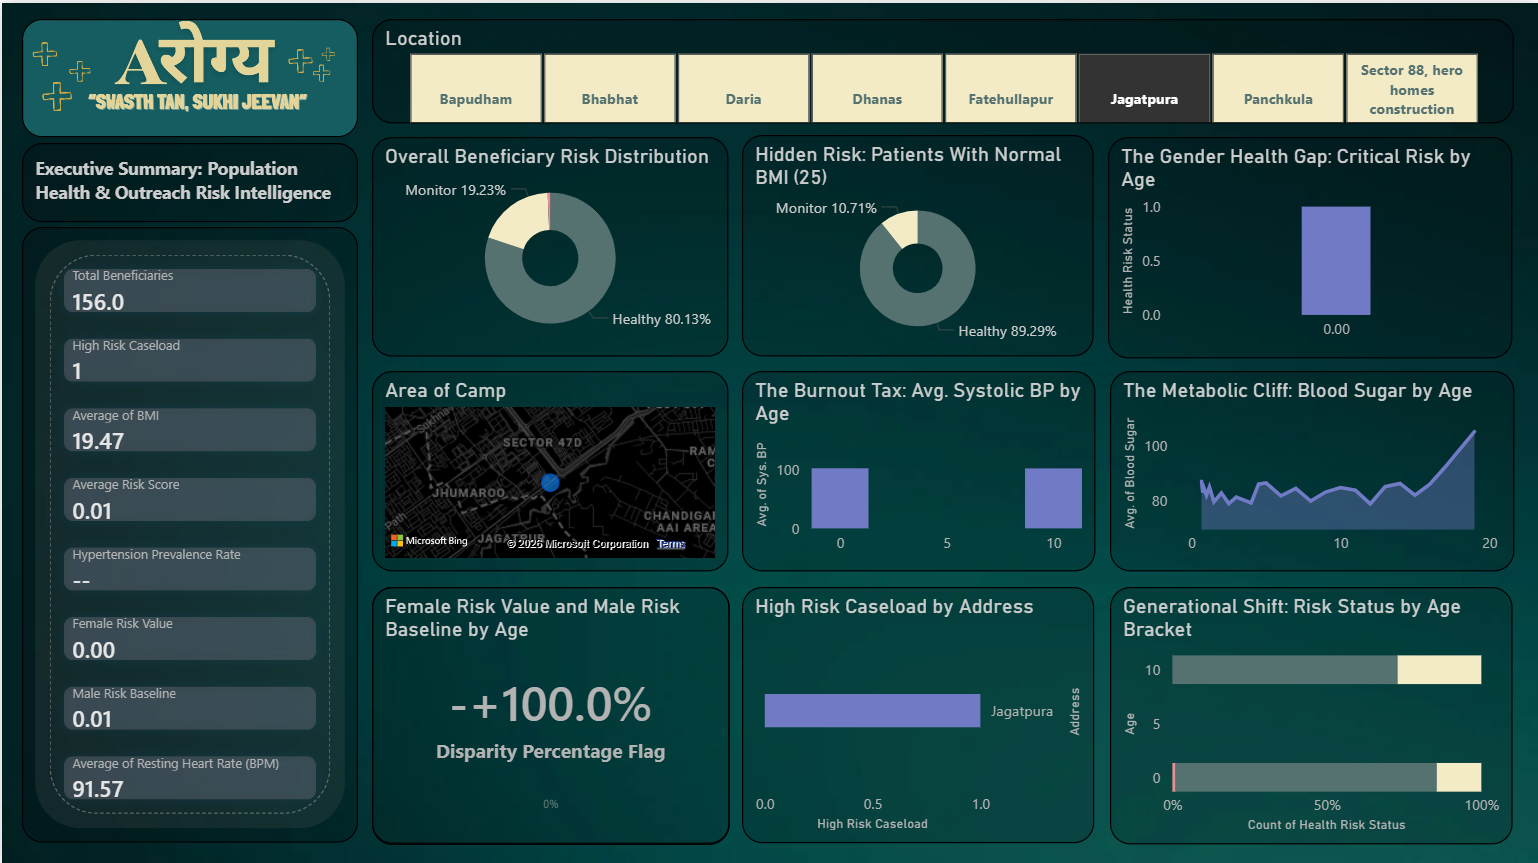

The page's visual inventory and layout, read from the dashboard file:
{"tool":"powerbi","page":{"name":"Page 1","canvas":[1280,720],"ordinal":0},"visuals":[{"type":"donutChart","title":"Overall Beneficiary Risk Distribution","fields":{"Category":["Sheet1.Health Risk Status"],"Y":["CountNonNull(Sheet1.Health Risk Status)"]},"box":[308.6,111.4,297.1,182.9],"z":0},{"type":"hundredPercentStackedBarChart","title":"Generational Shift: Risk Status by Age Bracket","fields":{"Category":["Sheet1.Age (bins)"],"Y":["CountNonNull(Sheet1.Health Risk Status)"],"Series":["Sheet1.Health Risk Status"]},"box":[922.7,486.4,335.5,214.5],"z":1000},{"type":"lineChart","title":"The Metabolic Cliff: Blood Sugar by Age","fields":{"Category":["Sheet1.Age"],"Y":["Avg(Sheet1.Blood Sugar)"]},"box":[922.9,307.1,337.1,167.1],"z":2000},{"type":"clusteredColumnChart","title":"The Gender Health Gap: Critical Risk by Age","fields":{"Category":["Sheet1.Age (bins)"],"Series":["Sheet1.Gender"],"Y":["CountNonNull(Sheet1.Health Risk Status)"]},"box":[921.4,111.4,337.1,184.3],"z":3000},{"type":"slicer","title":"Location","fields":{"Values":["Sheet1.Address"]},"box":[308.6,12.9,951.4,87],"z":4000},{"type":"map","title":"Area of Camp","fields":{"Y":["Sheet1 (4).Latitude"],"X":["Sheet1 (4).Longitute"],"Size":["CountNonNull(Sheet1.Health Risk Status)"]},"box":[308.6,307.1,297.1,167.1],"z":5000},{"type":"donutChart","title":"Hidden Risk: Patients With Normal BMI (25)","fields":{"Category":["Sheet1.Health Risk Status"],"Y":["CountNonNull(Sheet1.Health Risk Status)"]},"box":[616.7,110,292.9,184.3],"z":6000},{"type":"clusteredColumnChart","title":"The Burnout Tax: Avg. Systolic BP by Age","fields":{"Category":["Sheet1.Age (bins)"],"Y":["Avg(Sheet1.Systolic BP)"]},"box":[617.1,307.1,294.3,167.1],"z":7000},{"type":"cardVisual","fields":{"Data":["_Calculated Measures.'Total_Beneficiaries'","_Calculated Measures.High_Risk_Caseload","Avg(Sheet1 (4).BMI)","_Calculated Measures.Avg_Risk_Score","_Calculated Measures.Hypertension_Prevalence_Rate","_Calculated Measures.Female_Risk_Value","_Calculated Measures.Male_Risk_Baseline","Avg(Sheet1 (4).Resting Heart Rate (BPM))"]},"box":[17.1,187.1,280,512.9],"z":8000},{"type":"image","box":[16.7,13.3,280,98.3],"z":9000},{"type":"kpi","title":"Female Risk Value and Male Risk Baseline by Age","fields":{"Goal":["_Calculated Measures.Male Risk Baseline"],"Indicator":["_Calculated Measures.Female Risk Value"],"TrendLine":["Sheet1.Age (bins)"]},"box":[308,486,298,214],"z":10000},{"type":"clusteredBarChart","fields":{"Category":["Sheet1.Address"],"Y":["_Calculated Measures.High Risk Caseload"]},"box":[617.3,486.4,293.6,213.6],"z":11000},{"type":"textbox","box":[16.7,116.7,280,66],"z":12000},{"type":"cardVisual","fields":{"Data":["_Calculated Measures.Disparity Percentage Flag"]},"box":[308,486,298,215],"z":13000}]}

Visuals, with their boxes in screenshot pixels (x1, y1, x2, y2), scaled from the page's 1280x720 canvas onto the 1538x863 screenshot:
"Overall Beneficiary Risk Distribution" donutChart: select_region(371, 134, 728, 353)
"Generational Shift: Risk Status by Age Bracket" hundredPercentStackedBarChart: select_region(1109, 583, 1512, 840)
"The Metabolic Cliff: Blood Sugar by Age" lineChart: select_region(1109, 368, 1514, 568)
"The Gender Health Gap: Critical Risk by Age" clusteredColumnChart: select_region(1107, 134, 1512, 354)
"Location" slicer: select_region(371, 15, 1514, 120)
"Area of Camp" map: select_region(371, 368, 728, 568)
"Hidden Risk: Patients With Normal BMI (25)" donutChart: select_region(741, 132, 1093, 353)
"The Burnout Tax: Avg. Systolic BP by Age" clusteredColumnChart: select_region(741, 368, 1095, 568)
cardVisual - _Calculated Measures.'Total_Beneficiaries' x _Calculated Measures.High_Risk_Caseload: select_region(21, 224, 357, 839)
image: select_region(20, 16, 357, 134)
"Female Risk Value and Male Risk Baseline by Age" kpi: select_region(370, 583, 728, 839)
clusteredBarChart - Sheet1.Address x _Calculated Measures.High Risk Caseload: select_region(742, 583, 1095, 839)
textbox: select_region(20, 140, 357, 219)
cardVisual - _Calculated Measures.Disparity Percentage Flag: select_region(370, 583, 728, 840)
